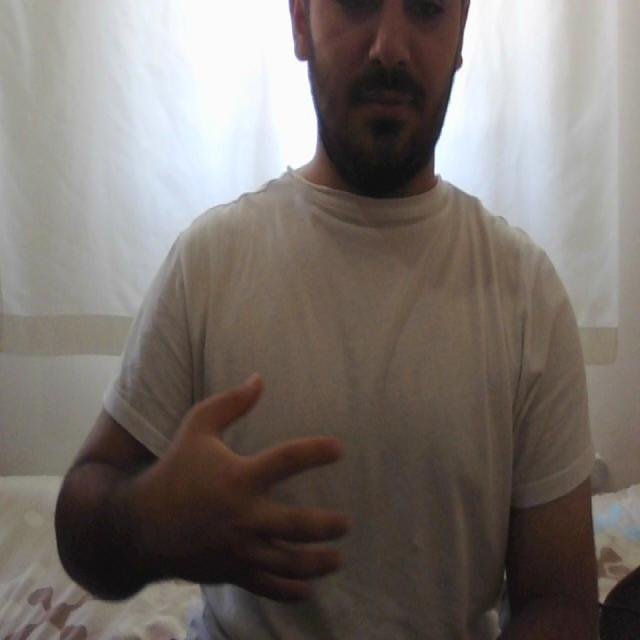Anne: (144, 366, 538, 616)
